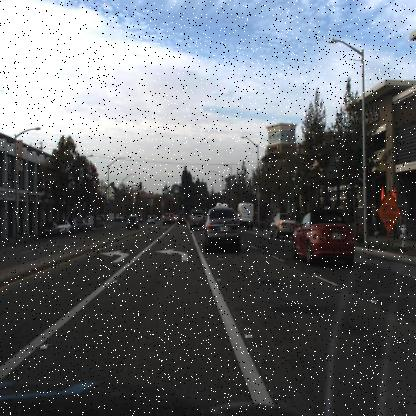car: (291, 209, 354, 265), (202, 204, 242, 254), (268, 212, 297, 240), (237, 199, 255, 232), (189, 208, 207, 230), (40, 219, 60, 238), (125, 212, 142, 234), (70, 216, 92, 232), (56, 216, 70, 238), (57, 219, 71, 238), (126, 214, 140, 230), (145, 213, 158, 227), (162, 212, 174, 226), (177, 214, 186, 226)
truck: (237, 201, 254, 230)
